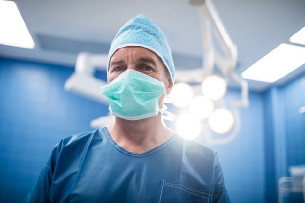face_mask: (106, 48, 165, 119)
